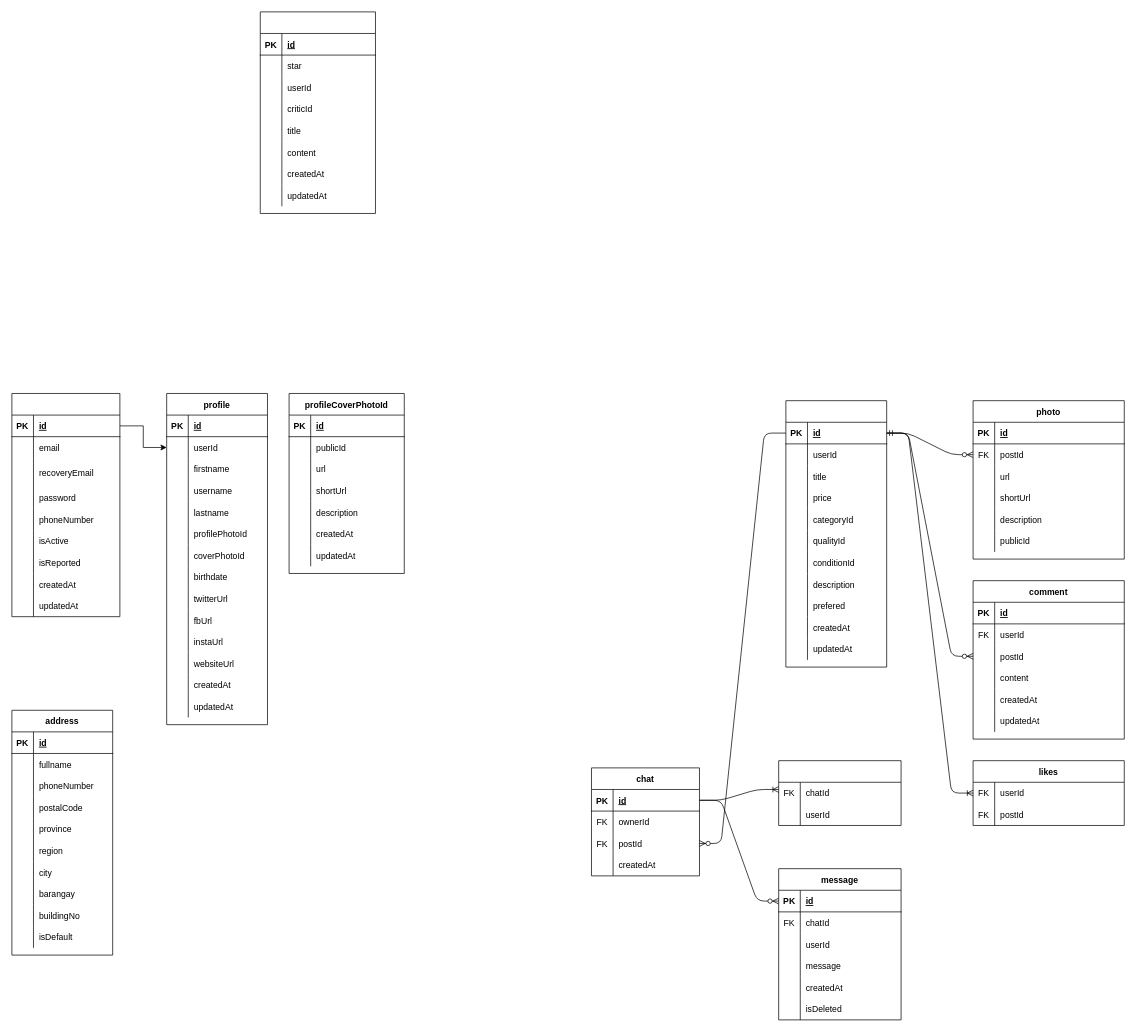
The diagram is 1136 pixels wide and 1032 high, and some of its shapes have lost their labels. The shapes that lost their labels are listed below. From the top down, each one's box as (x1, y1, x2, y2) in pixels, then its label:
(260, 11, 375, 213): userReview
(11, 393, 120, 617): user
(785, 400, 887, 667): post
(778, 760, 901, 825): paticipants
